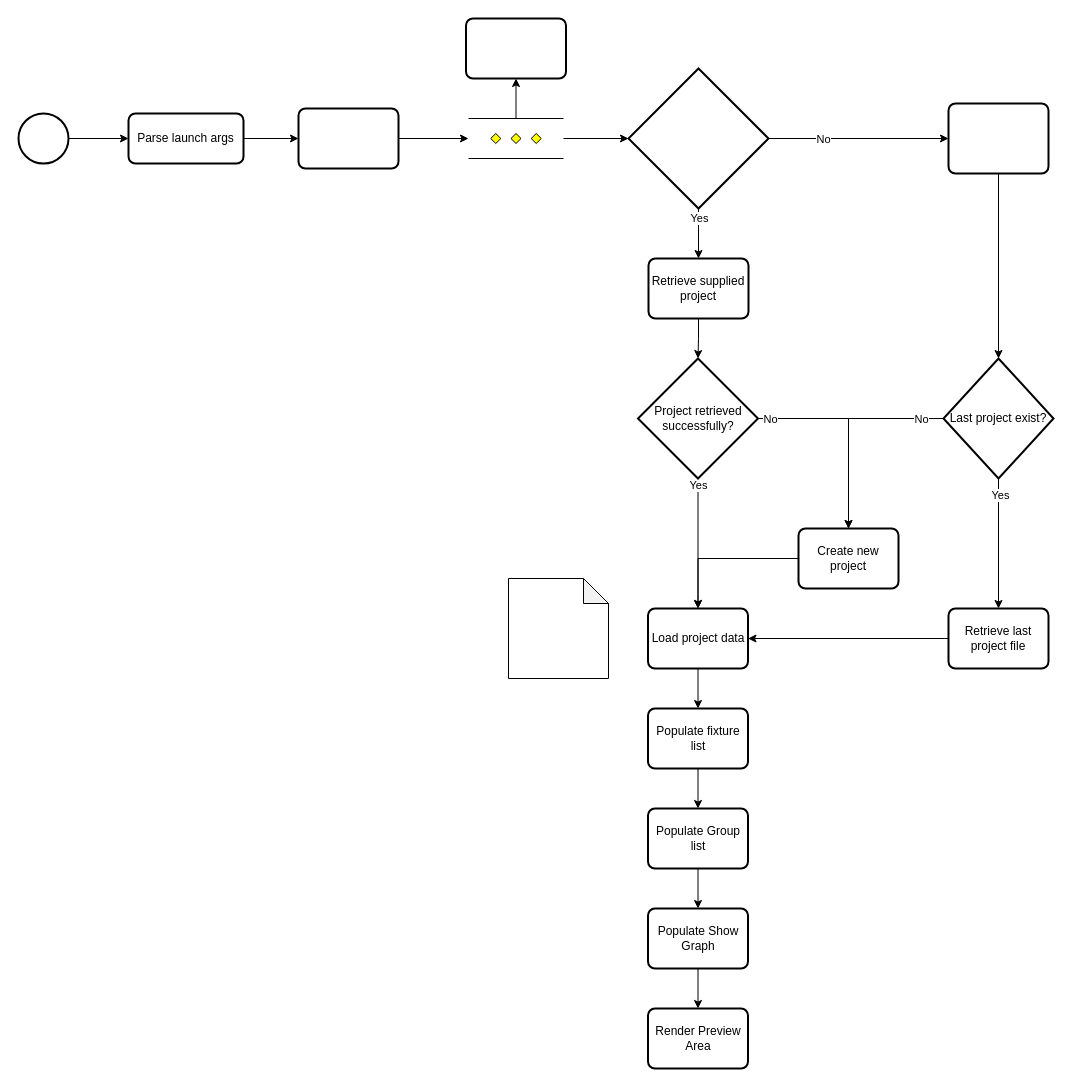
The diagram is 1071 pixels wide and 1086 high, and some of its shapes have lost their labels. The shapes that lost their labels are listed below. From the top down, each one's box as (x1, y1, x2, y2) in pixels, then its label:
(464, 17, 566, 79): Listen for user input
(17, 112, 69, 164): Start
(297, 107, 399, 169): Prepare main window
(627, 67, 769, 209): Project supplied with launch args?
(947, 102, 1049, 174): Find last opened project from cache
(508, 578, 608, 678): Singleton containing the project data?
